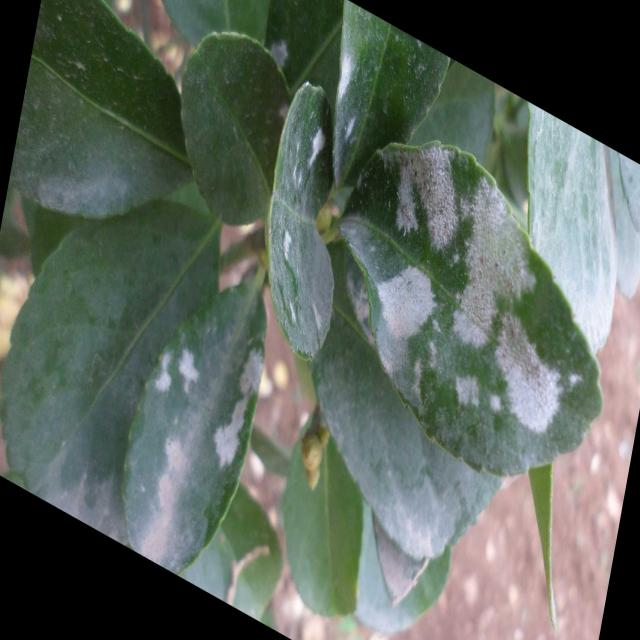Black_knot: (338, 138, 604, 479)
